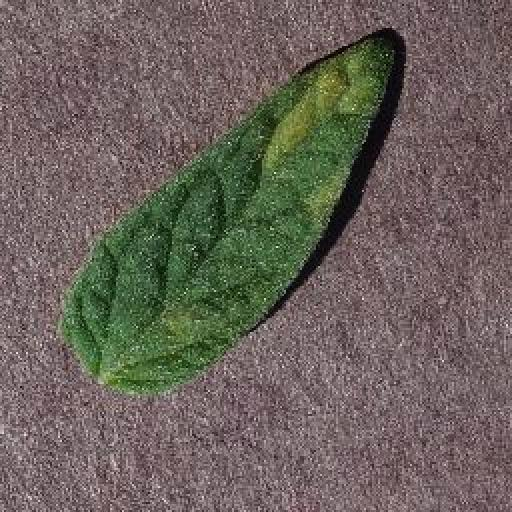disease_tomato: (59, 30, 400, 388)
